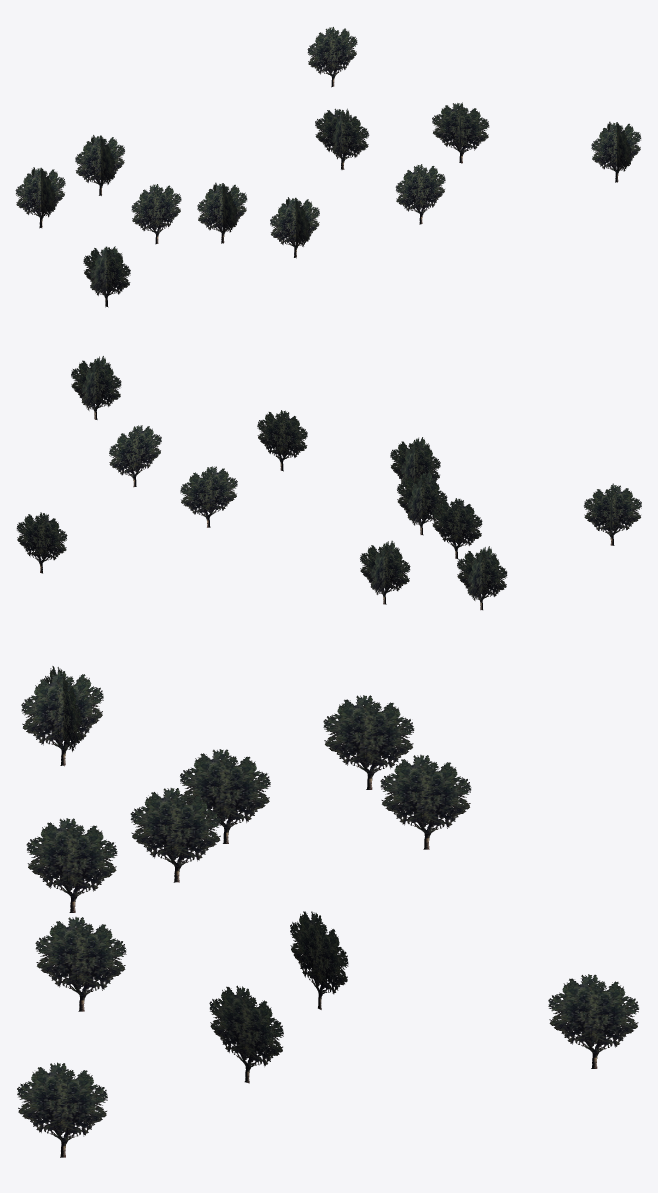
Rendered from planeTree18.FBX.
3 renders of one model, top to bottom at view 1: azimuth 30°, elevation 25°; view 2: azimuth 150°, elevation 25°; view 3: azimuth 270°, elevation 25°, orthographic. The views are drawn at different scales.
Visible parts, largest first — view 1: planeTree018; view 2: planeTree018; view 3: planeTree018.
Part boxes in pixels (bbox=[...]): planeTree018: bbox=[15, 27, 641, 307]; planeTree018: bbox=[16, 356, 641, 610]; planeTree018: bbox=[17, 666, 638, 1157].
Size of the model in its own units: 4229 by 441 by 2608.
Materials: 1 (1 with a texture image).
